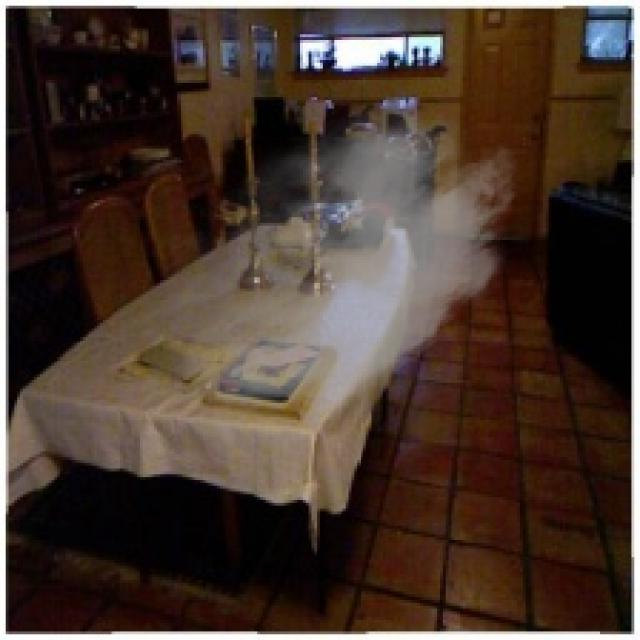smoke: (120, 89, 531, 454)
